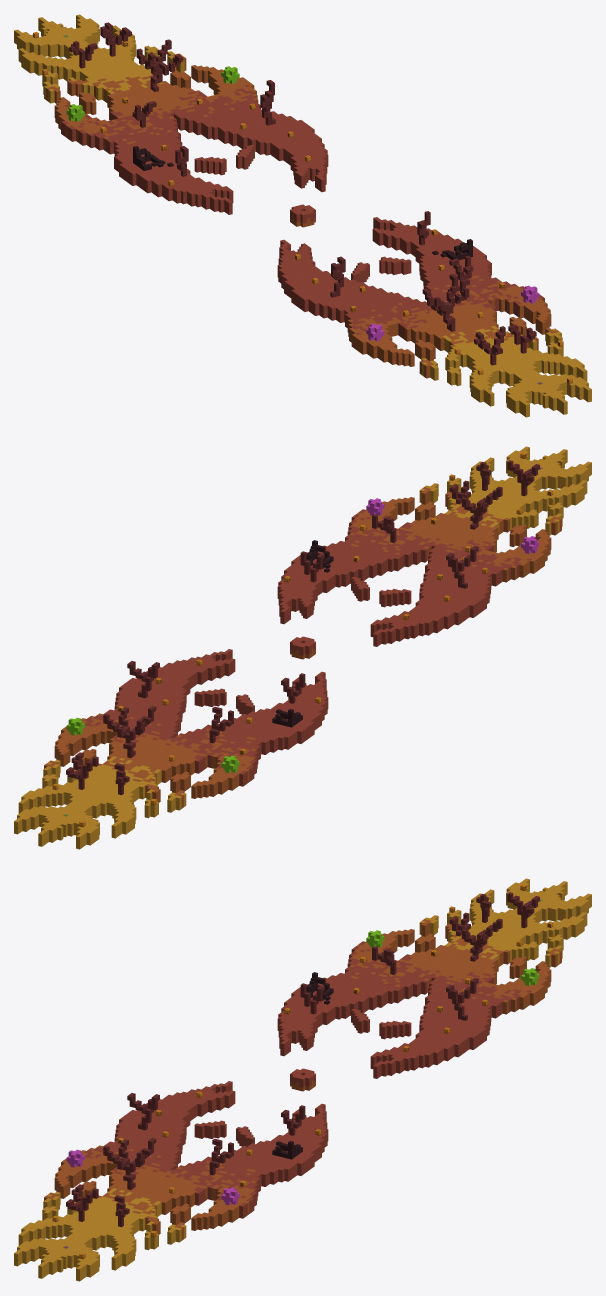
Rendered from minecraft.obj.
The picture shows the model from 3 angles, top to bottom: view 1: azimuth 30°, elevation 25°; view 2: azimuth 150°, elevation 25°; view 3: azimuth 330°, elevation 25°; orthographic projection.
Size of the model in its own units: 47 by 14 by 235.
